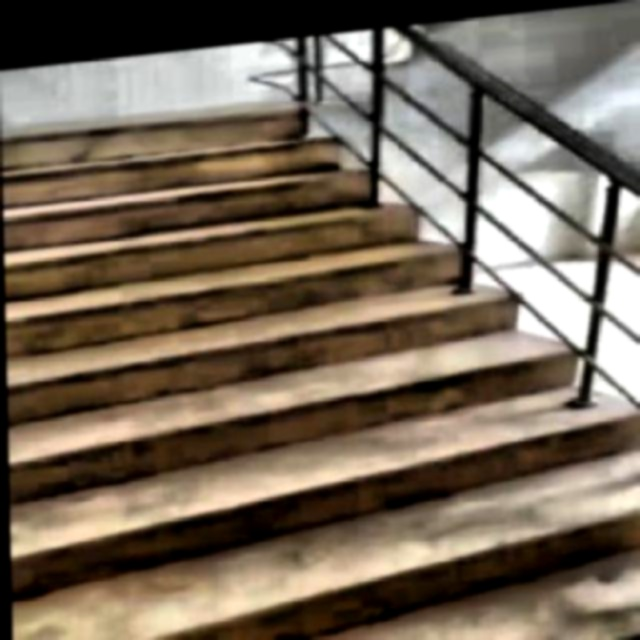stair: (2, 61, 640, 638)
